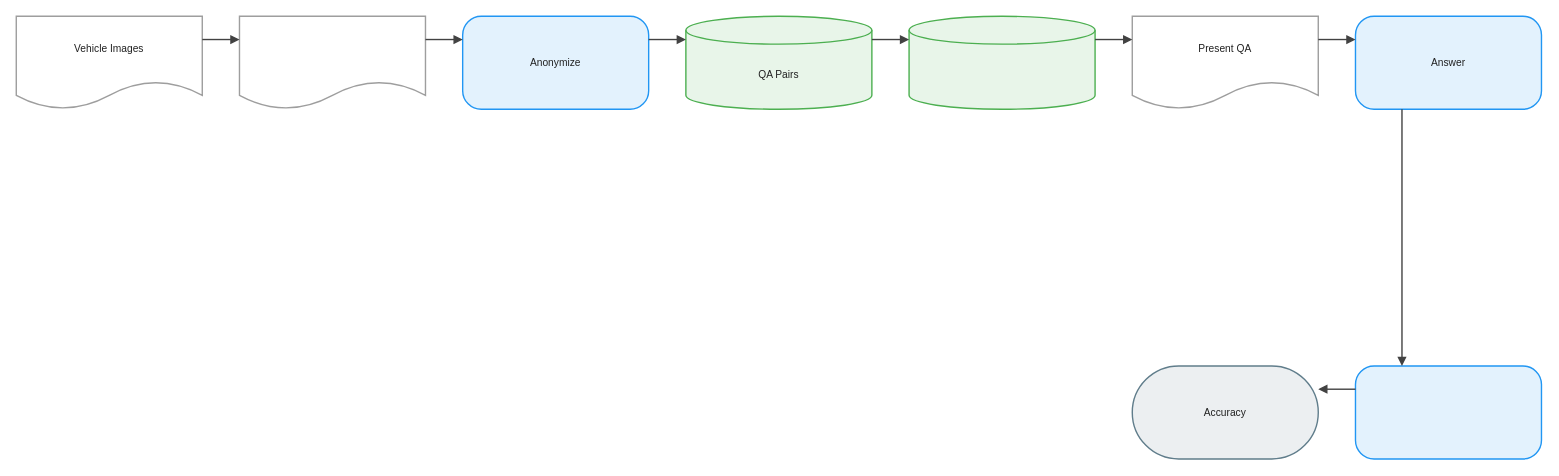
Some shapes in this 1559 by 476 pixel diagram are drawn without their labels. The centre of each missing label's shape, as x and y in pixels:
"Gold Check" goes at point 1448,412.
"Other Scenes" goes at point 332,62.
"Release 765" goes at point 1001,62.
